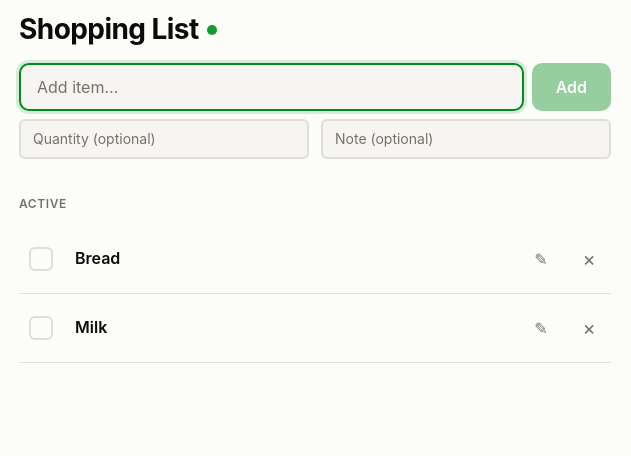
Test case: Task 5 — WebSocket reconciliation for edits › AC1: WS item_updated for a different item does not disrupt active edit
Expected: the text "Bread" is shown, [75,248,120,268]
Expected: the text "Milk" is shown, [75,317,107,337]
# Start editing item 1
Click the button named "edit bread": point(541, 259) [519,237,563,281]
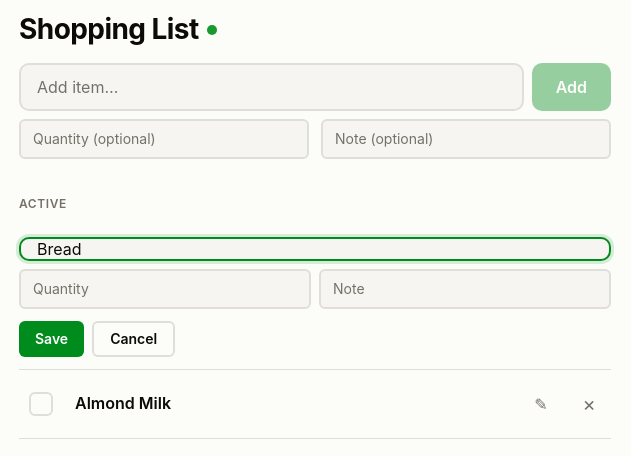
Result: the text "Almond Milk" is shown at [75,393,171,413]
Result: the field named "Edit item name" holds "Bread" at [19,237,611,261]
